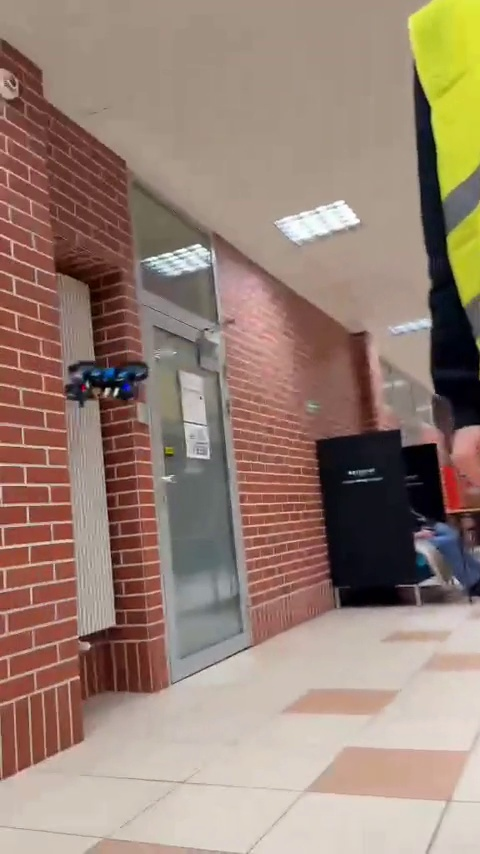drone: (54, 361, 147, 411)
